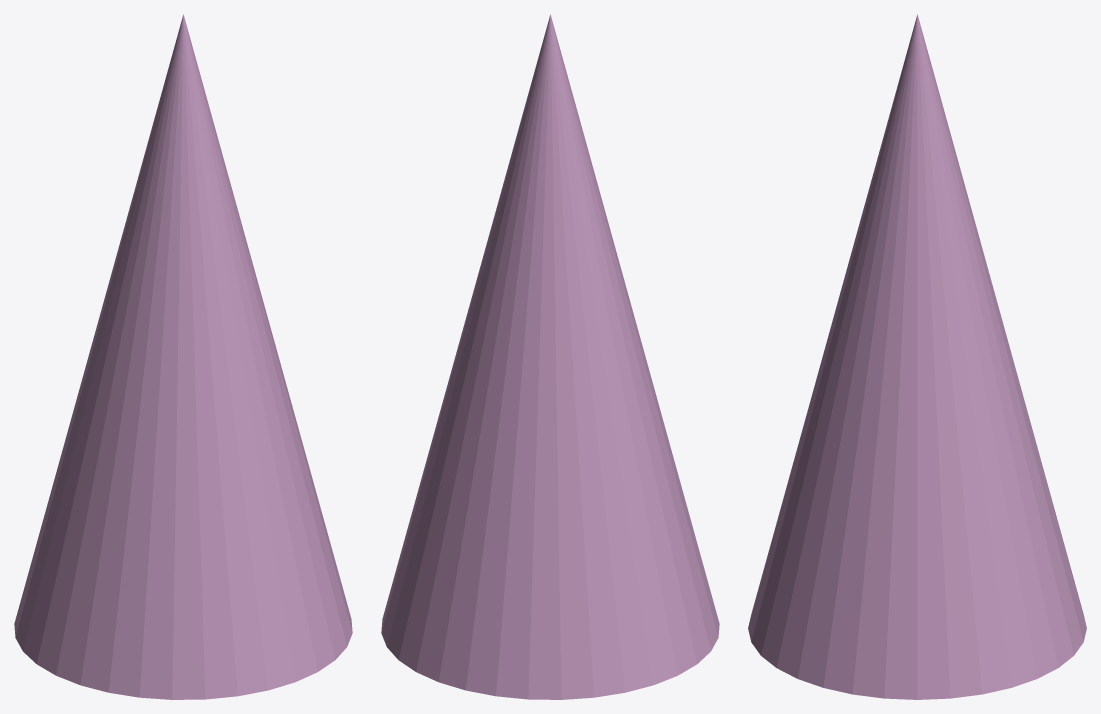
Rendered from kon.glb.
3 views of the same model, side by side, from view 1: azimuth 30°, elevation 25°; view 2: azimuth 150°, elevation 25°; view 3: azimuth 270°, elevation 25° (orthographic).
Visible parts, largest first — view 1: Cone; view 2: Cone; view 3: Cone.
Part boxes in pixels (box(x1,y1,x2,y2)): Cone: box(14, 14, 352, 699); Cone: box(381, 14, 719, 699); Cone: box(748, 14, 1086, 699).
Bounding box in the file's own units: 6 × 12 × 6.
